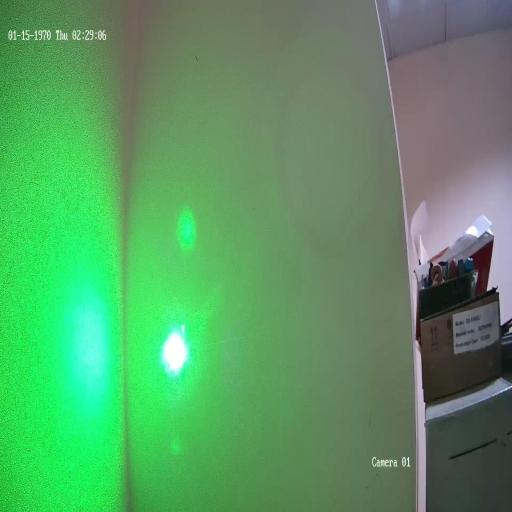laser: (154, 304, 197, 386)
